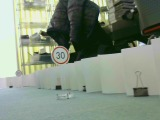speed_30: (49, 45, 70, 65)
